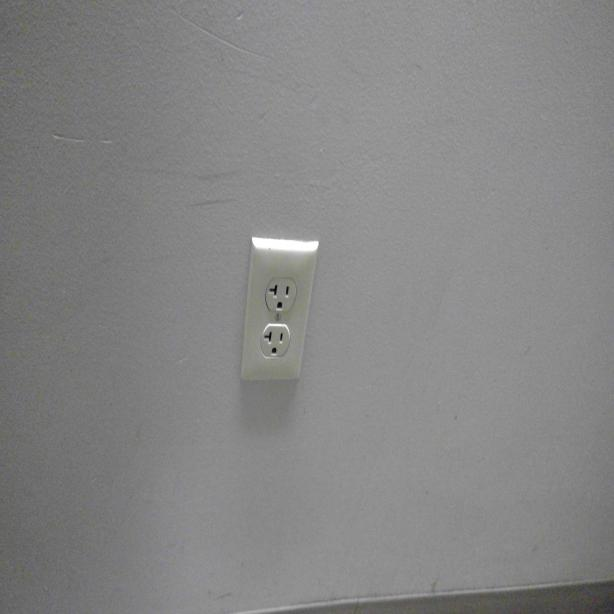typeb: (264, 278, 296, 314), (261, 327, 290, 361)
